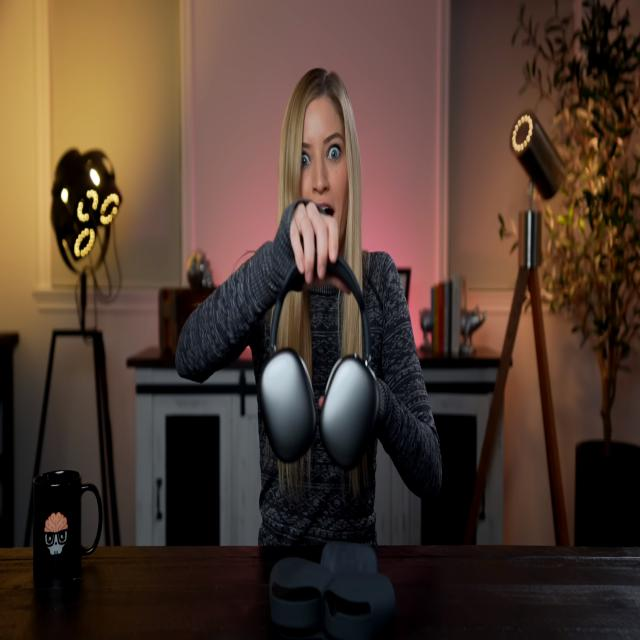Headphone: (255, 245, 382, 472)
